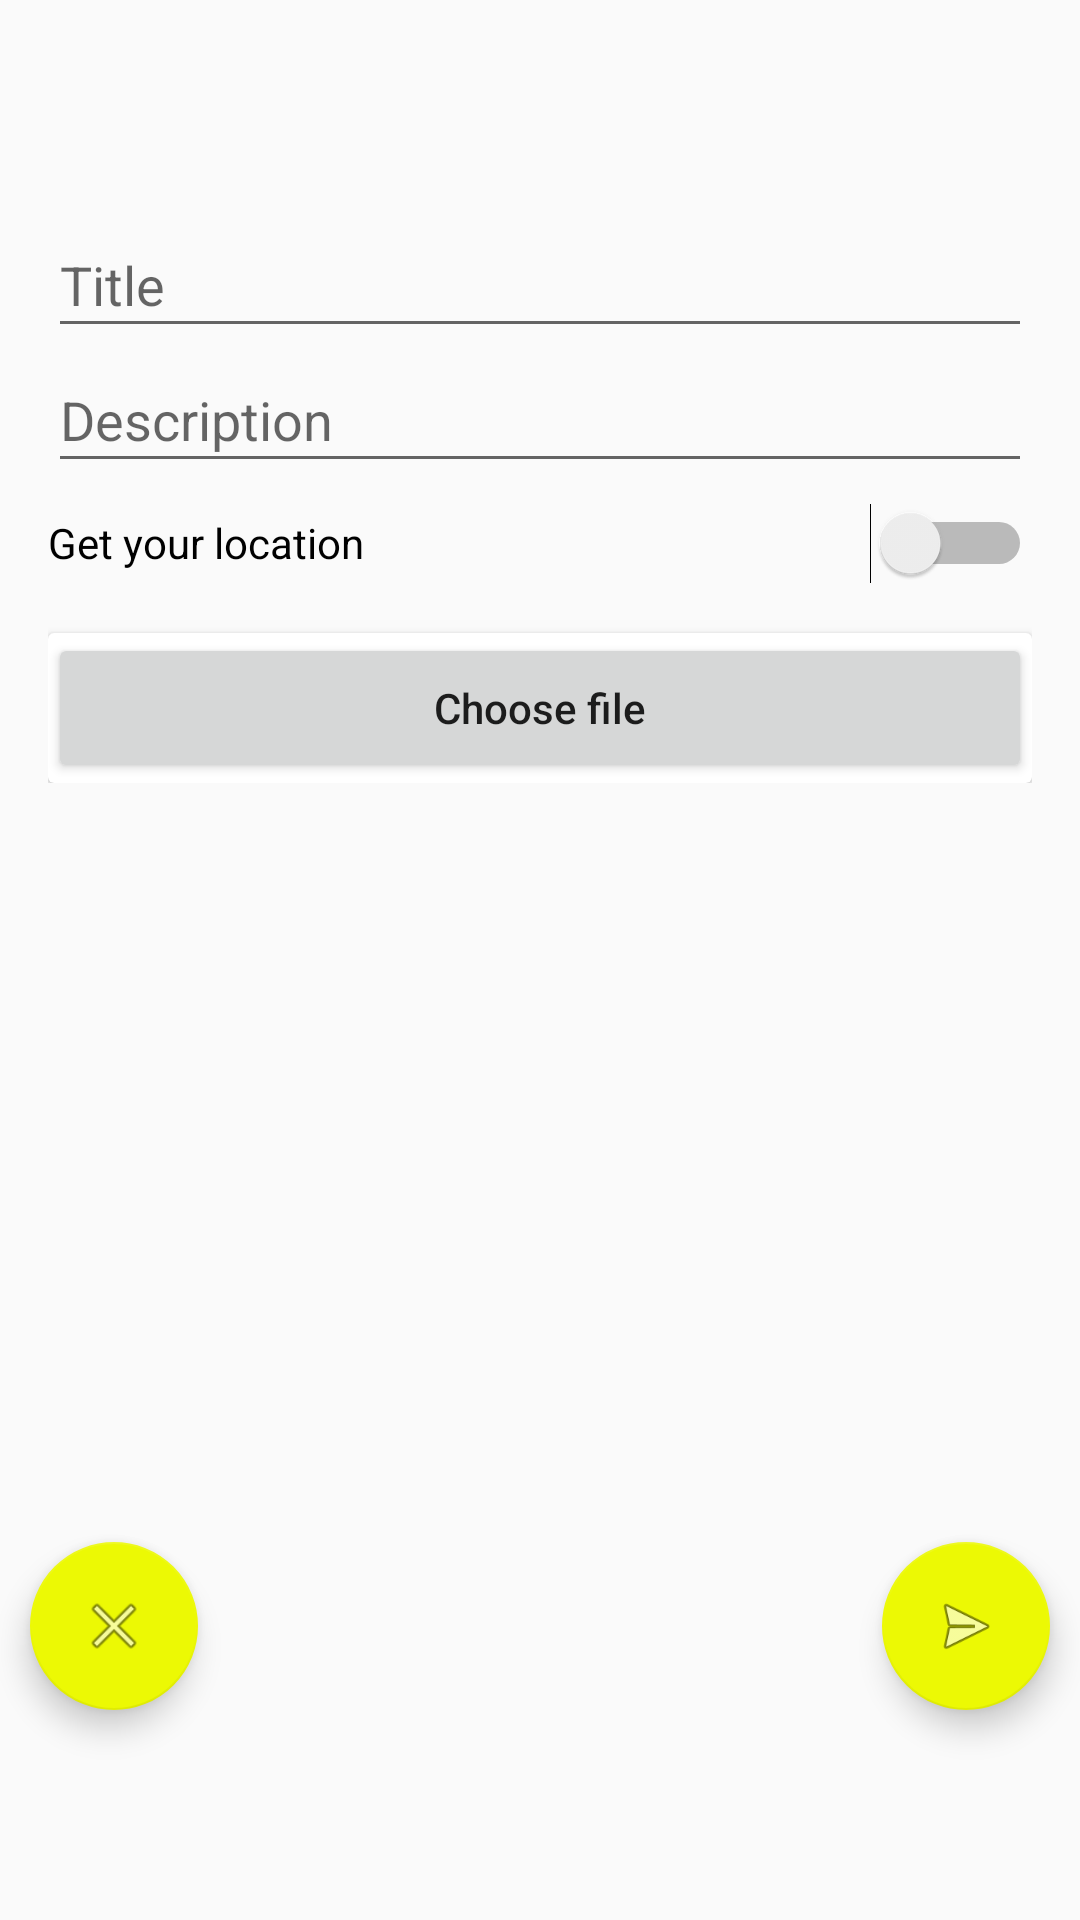

Where to tap for icons on this 1080*1920 app screen, as point (x, y):
close clear cancel: point (113, 1633)
send: point (967, 1633)
